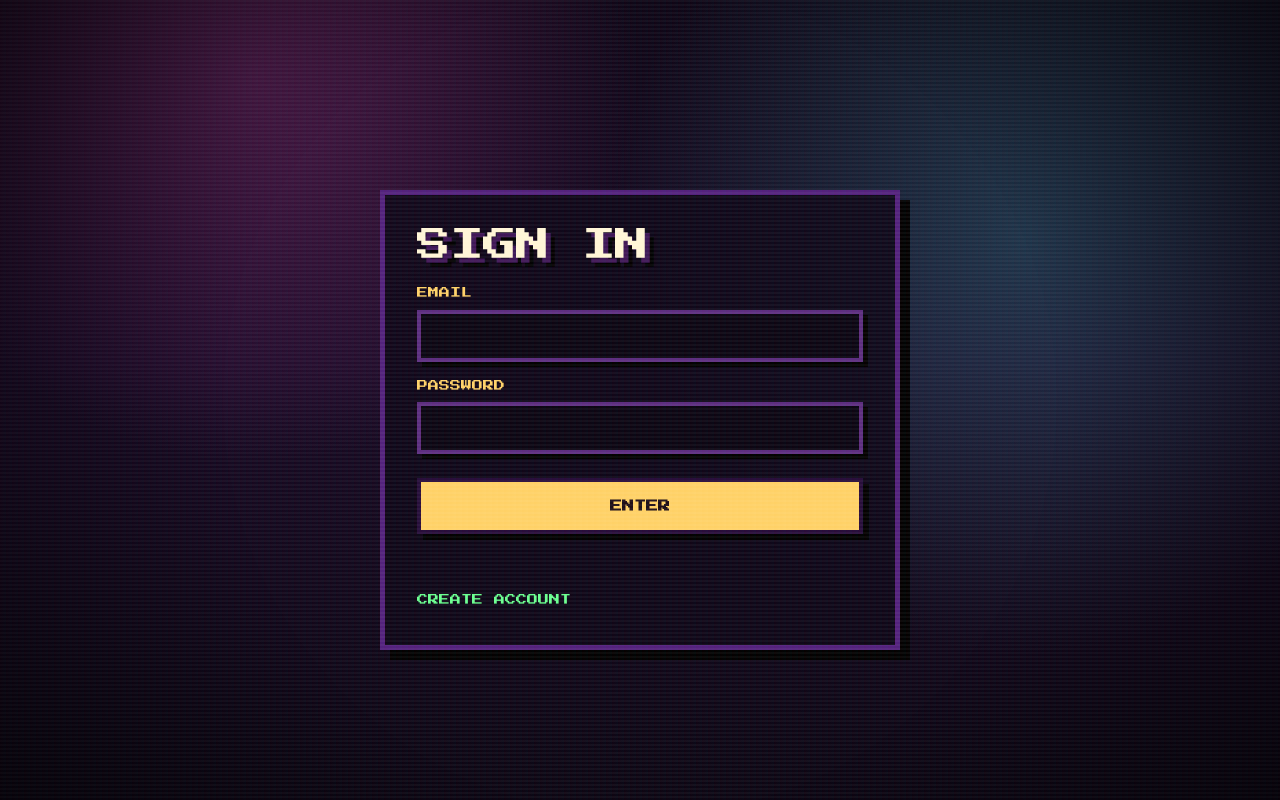
it: AuthPanel › shows auth errors from the client
Type "user@example.test" into the field labelled "Email". click: (640, 336)
box: 417,310 -> 863,362
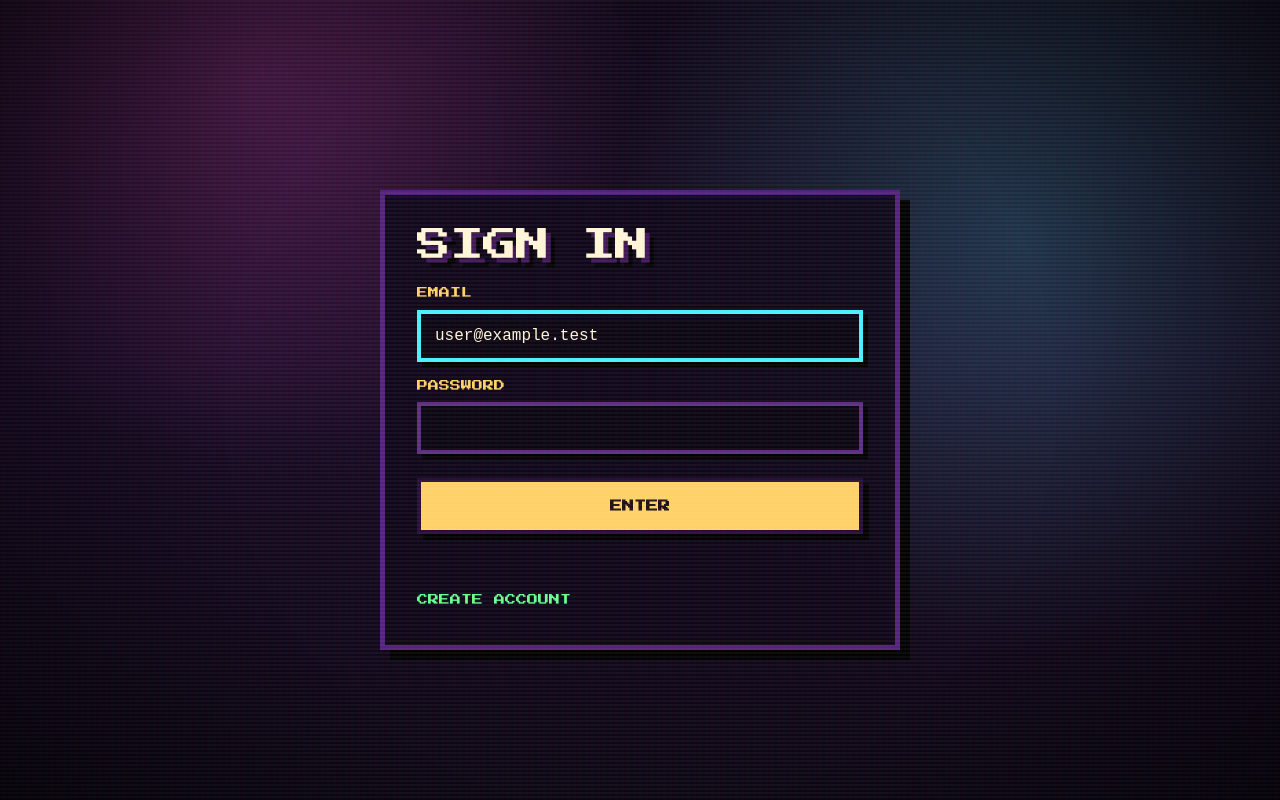
Type "password123" into the password field labelled "Password". click: (640, 428)
box: 417,402 -> 863,454
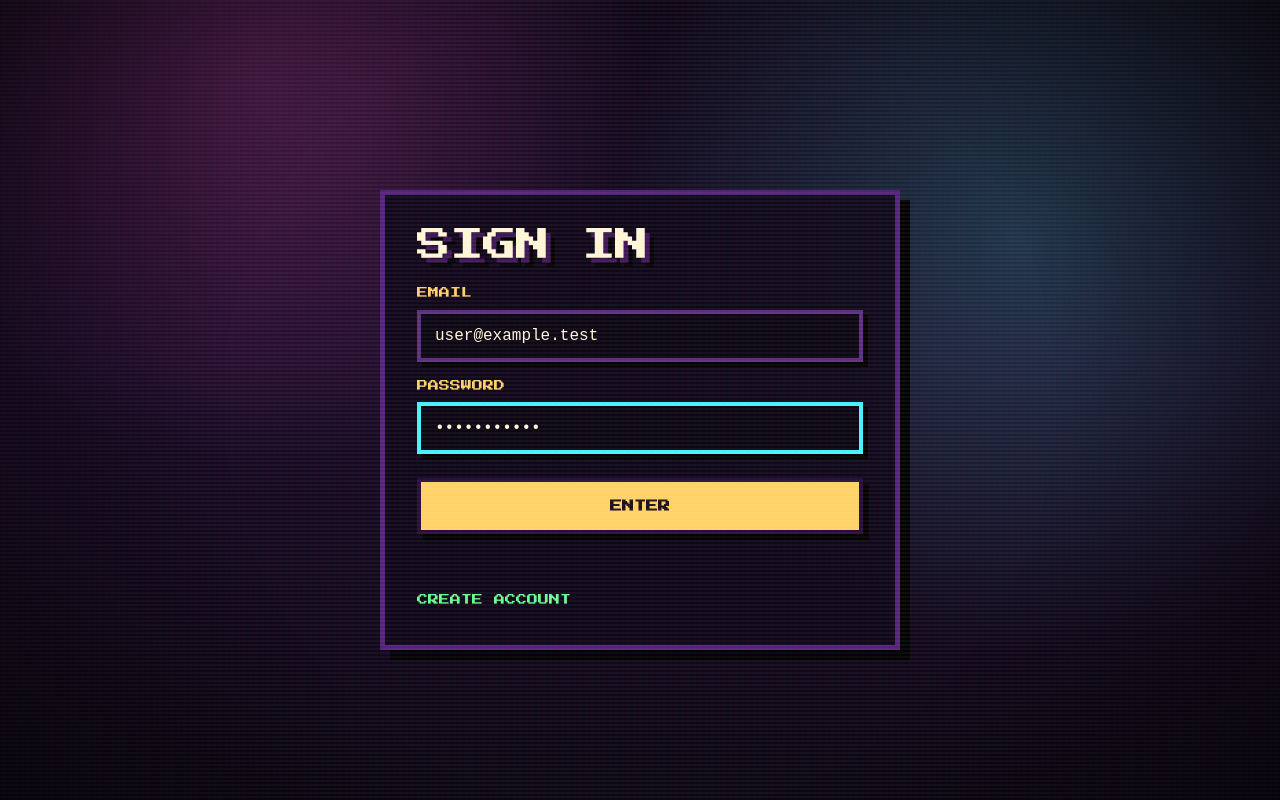
Click the button "Enter". click: (640, 506)
box: 417,478 -> 863,534
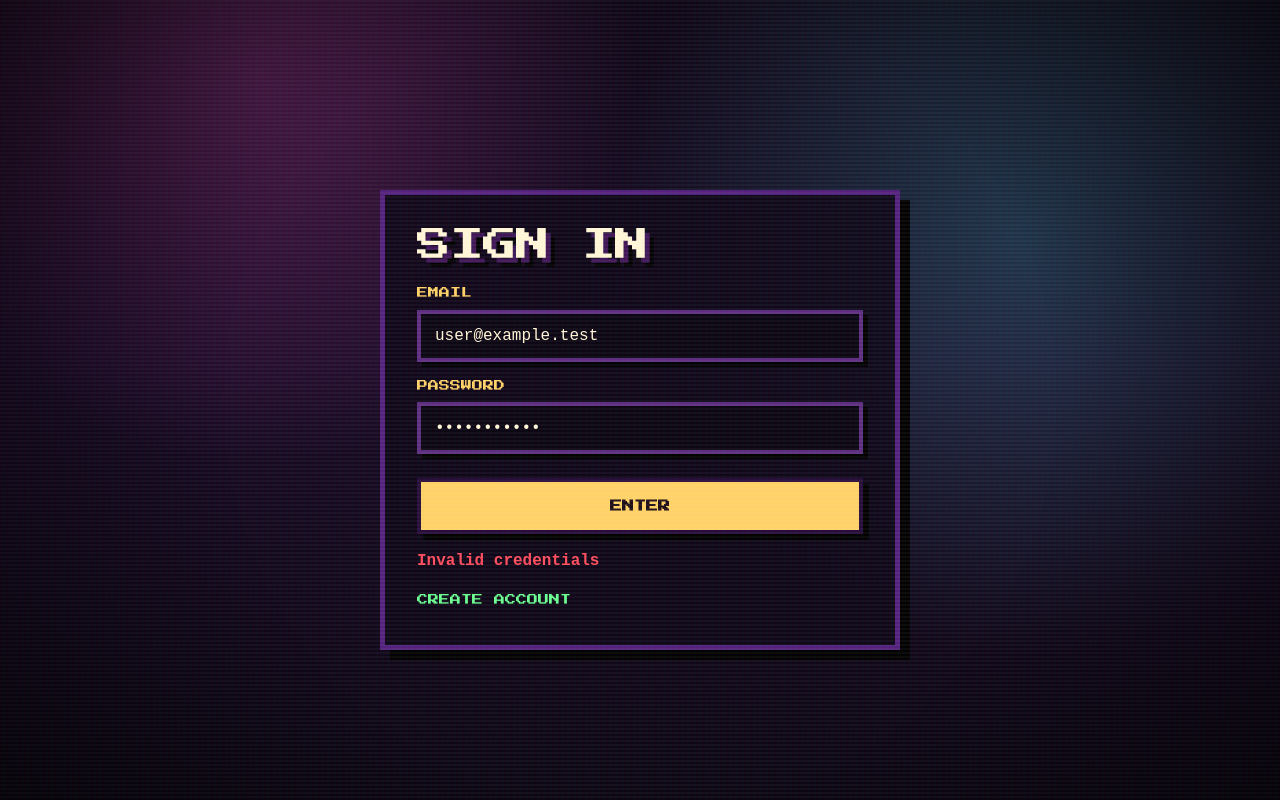
Check: the message reads "Invalid credentials", box 417,552 -> 599,570
